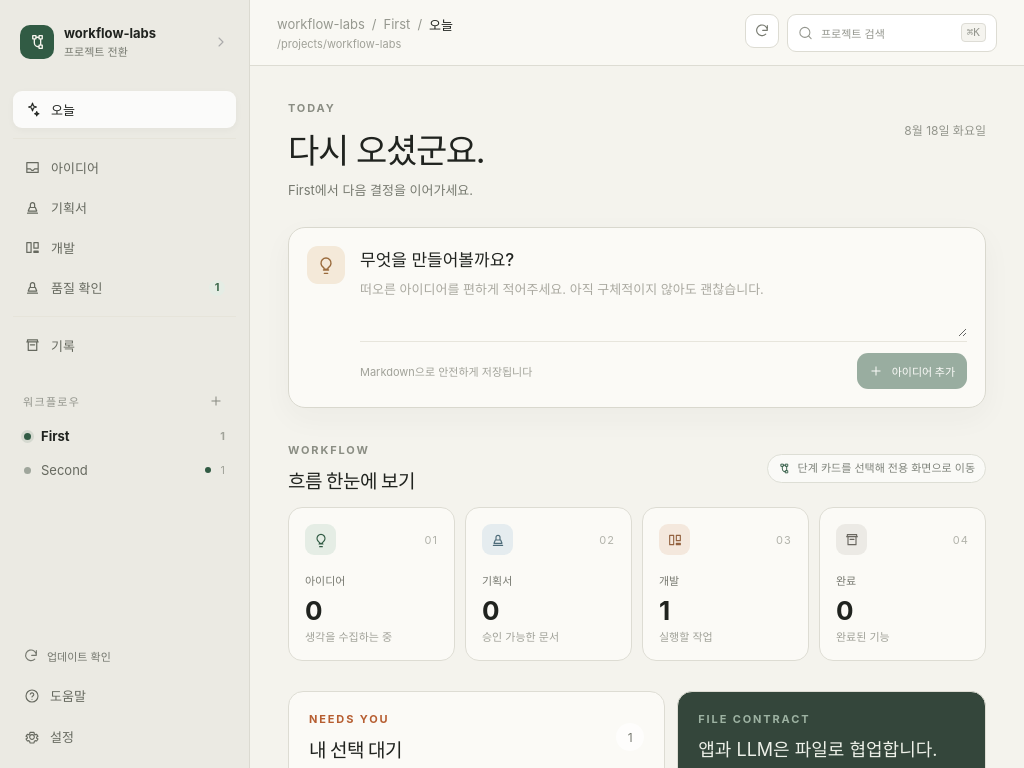
Test: WorkspaceShell › remounts the QA workbench when workflows reuse the same group id and revision
Click the button "품질 확인 1": (124,288) [13,269,236,306]
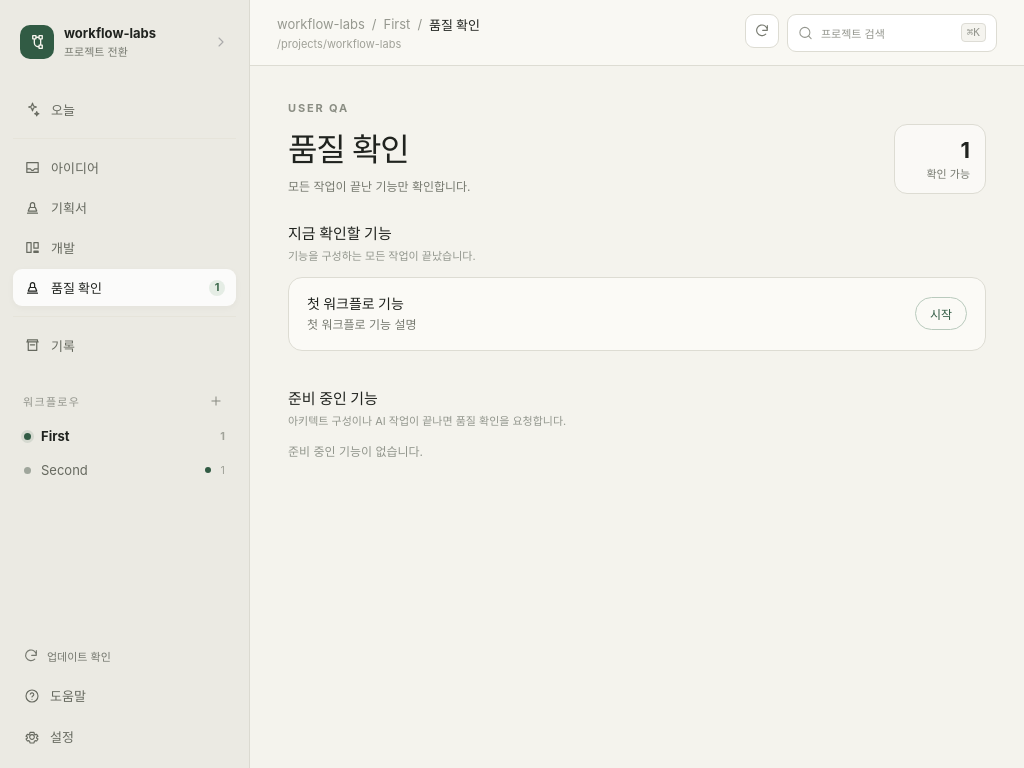
Click the button "첫 워크플로 기능 첫 워크플로 기능 설명 시작": (355,304) [288,277,986,351]
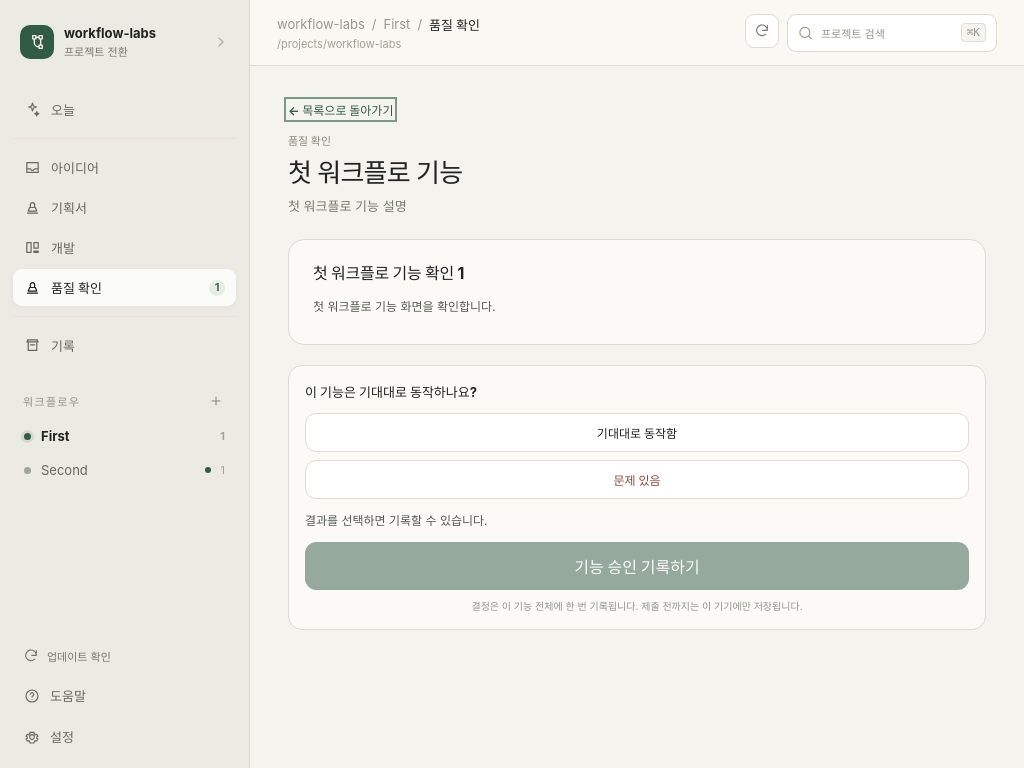
Click the button "기대대로 동작함": (637,432) [305,413,969,452]
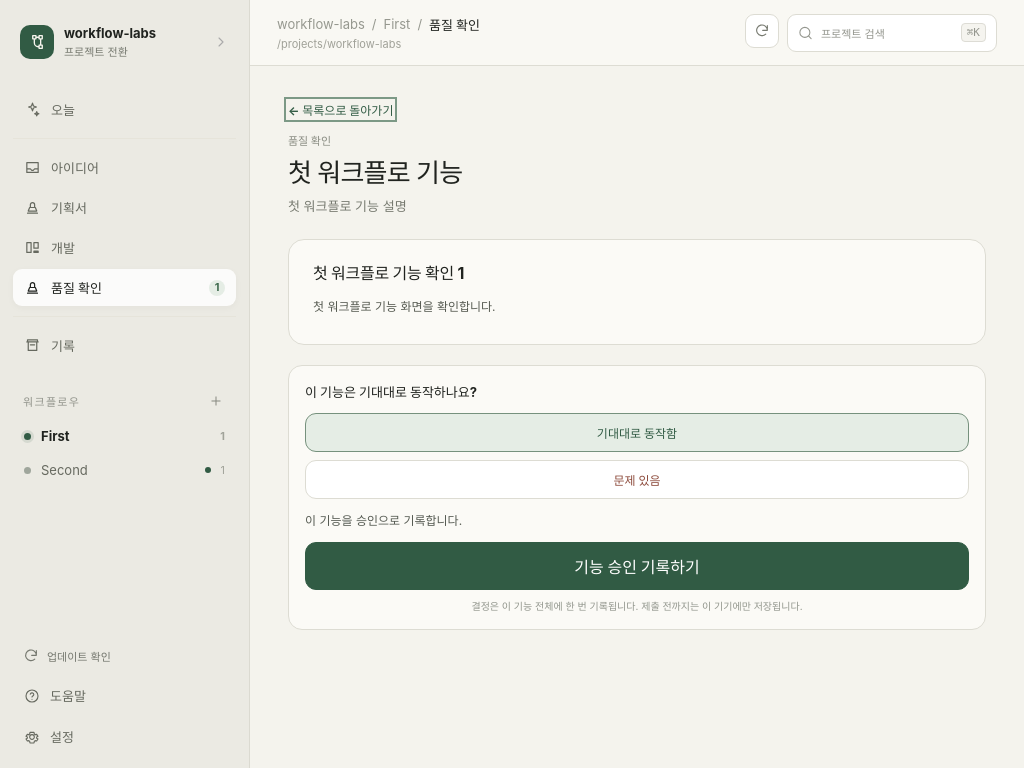
Now the button "기대대로 동작함" is pressed, box [305,413,969,452]
# 같은 그룹 id·revision이라도 워크플로가 다르면 임시 결정을 물려받지 않는다.
Click the button "Second 1": (124,470) [13,453,236,487]
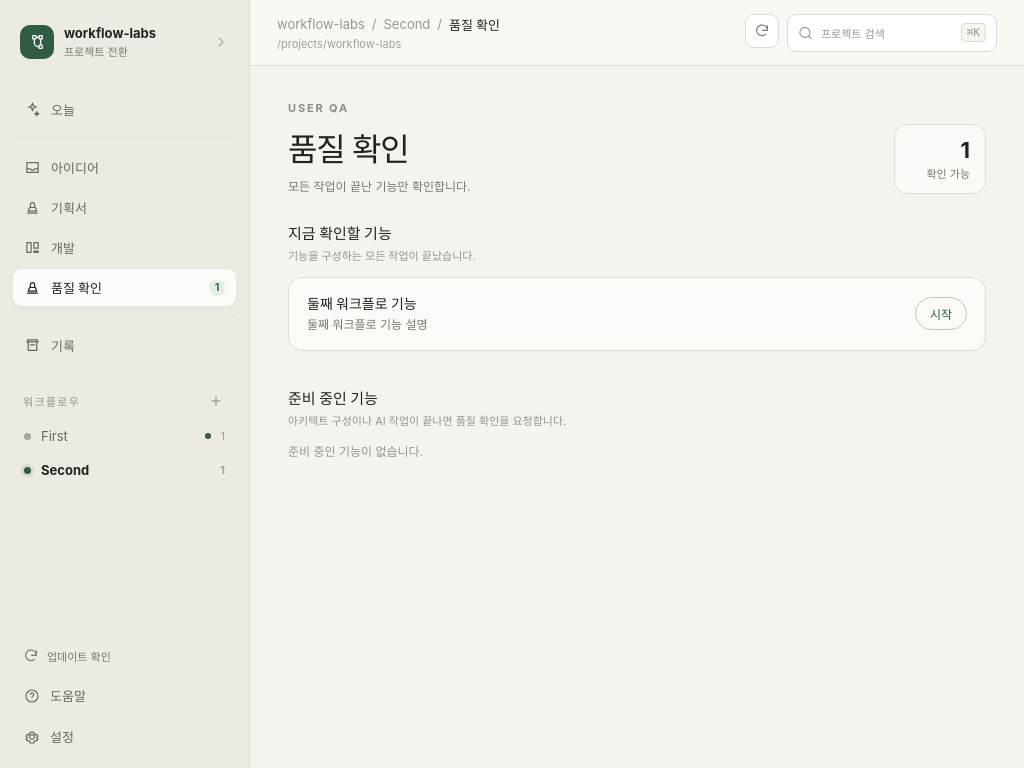
Now the element "지금 확인할 기능" is shown, box [288,222,986,351]
Click the button "둘째 워크플로 기능 둘째 워크플로 기능 설명 시작": (362,304) [288,277,986,351]
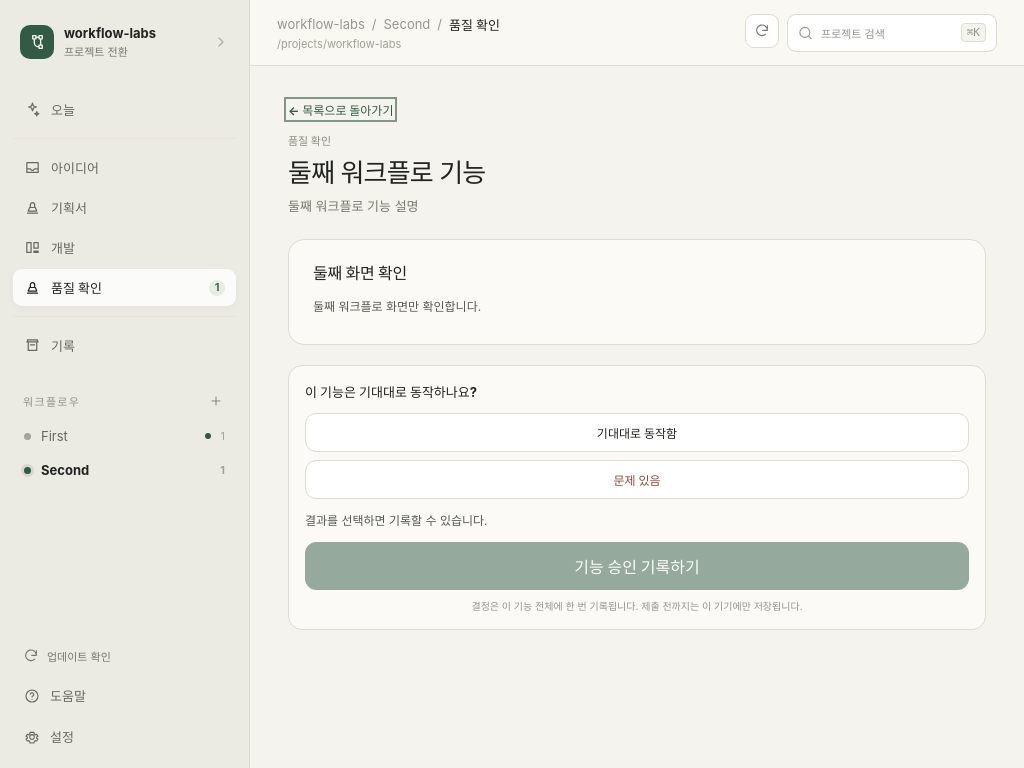
Now the element named "확인 플로우" shows "둘째 워크플로 화면만 확인합니다.", box [313,299,481,314]
